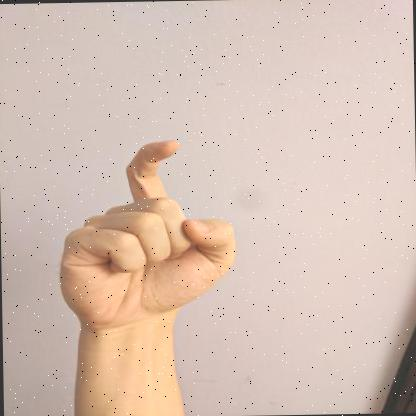X: (59, 140, 235, 328)
